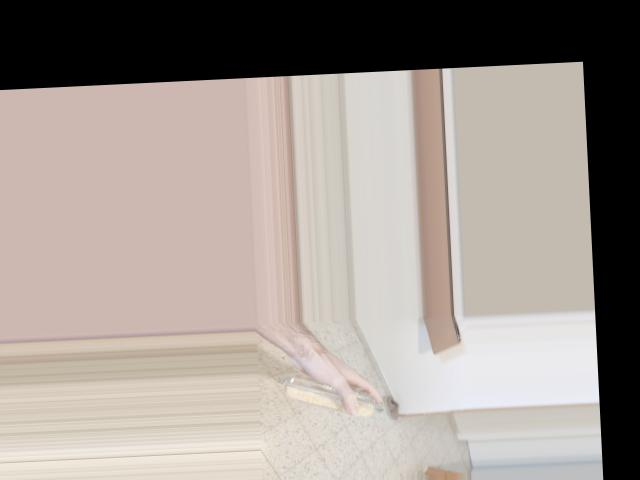cheese: (292, 347, 389, 432)
